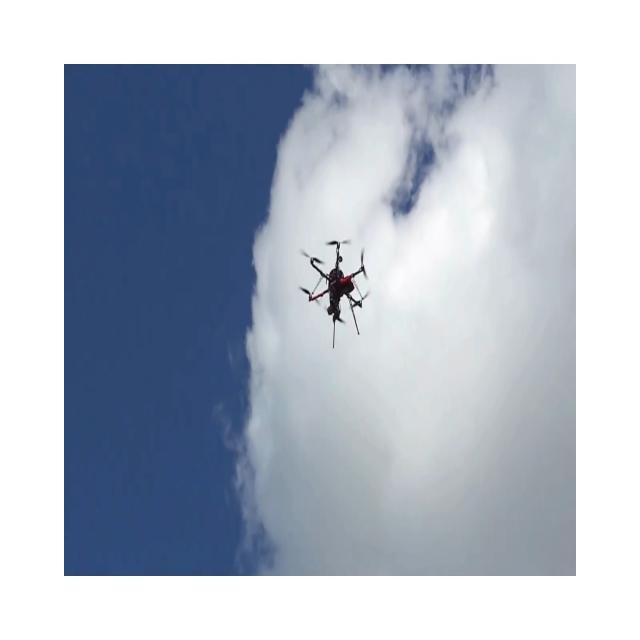drone: (299, 238, 369, 348)
